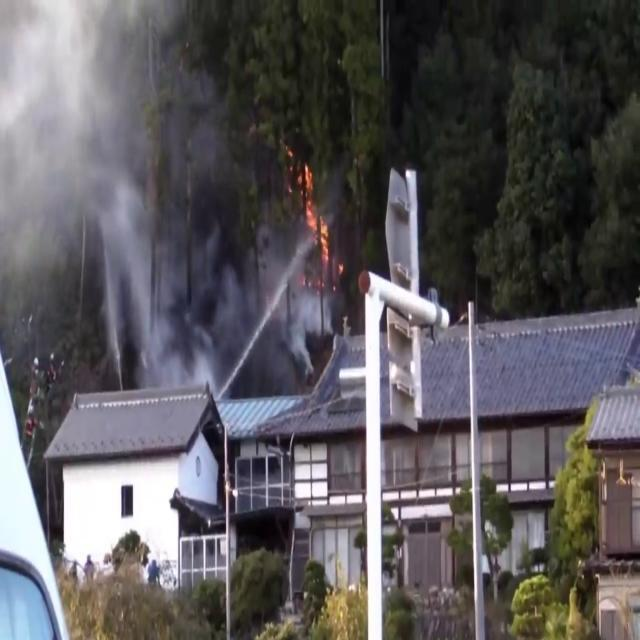Fire: (295, 158, 335, 280)
Smoke: (0, 0, 240, 424)
